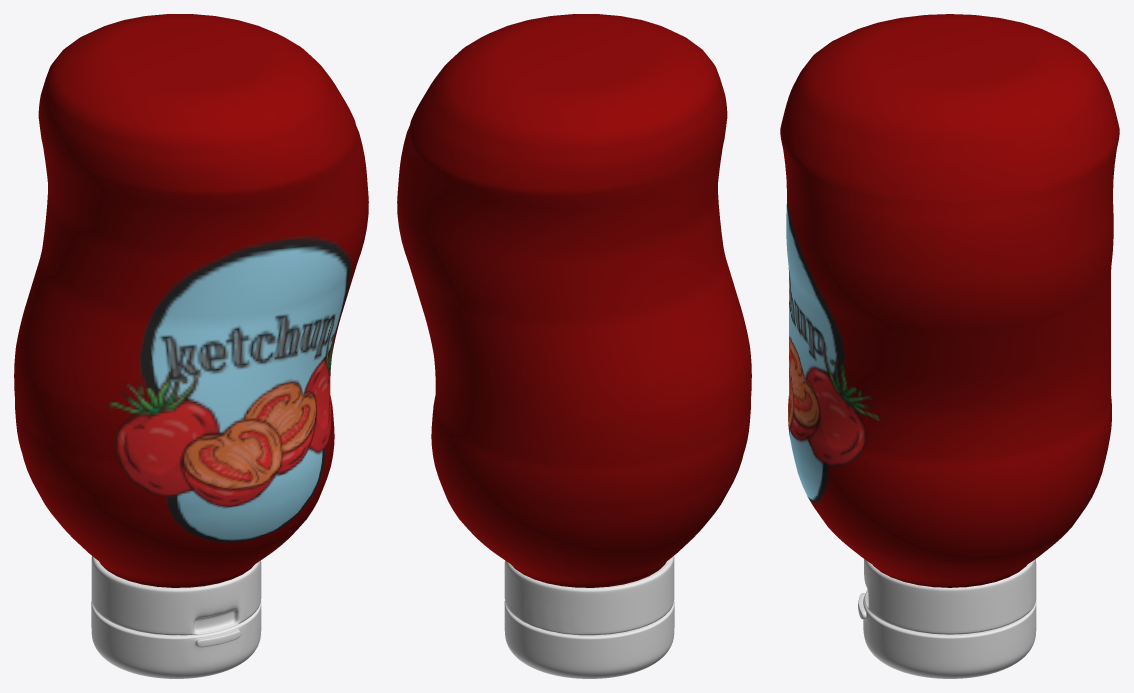
Rendered from ketchup.fbx.
3 views of the same model, side by side, from view 1: azimuth 30°, elevation 25°; view 2: azimuth 150°, elevation 25°; view 3: azimuth 270°, elevation 25° (orthographic).
Parts seen in each view (by area): view 1: Cylinder.003, Cylinder; view 2: Cylinder.003, Cylinder; view 3: Cylinder.003, Cylinder.
Part boxes in pixels (x1=…): Cylinder.003: x1=14, y1=14, x2=368, y2=587; Cylinder: x1=91, y1=556, x2=261, y2=678; Cylinder.003: x1=397, y1=14, x2=751, y2=587; Cylinder: x1=504, y1=556, x2=674, y2=678; Cylinder.003: x1=780, y1=14, x2=1119, y2=587; Cylinder: x1=858, y1=559, x2=1036, y2=678.
Size of the model in its own units: 10.94 by 19.77 by 10.12.
